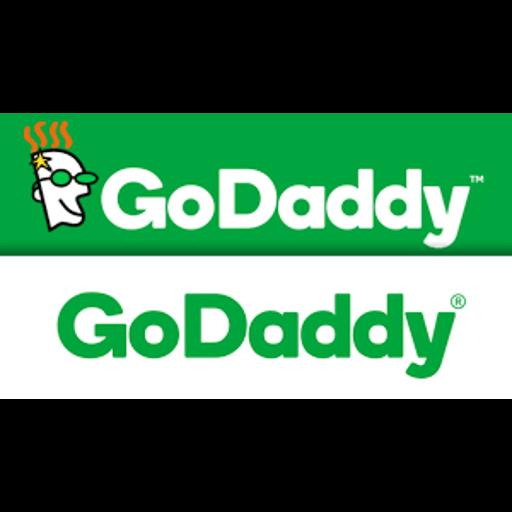GoDaddy: (0, 113, 512, 399)
